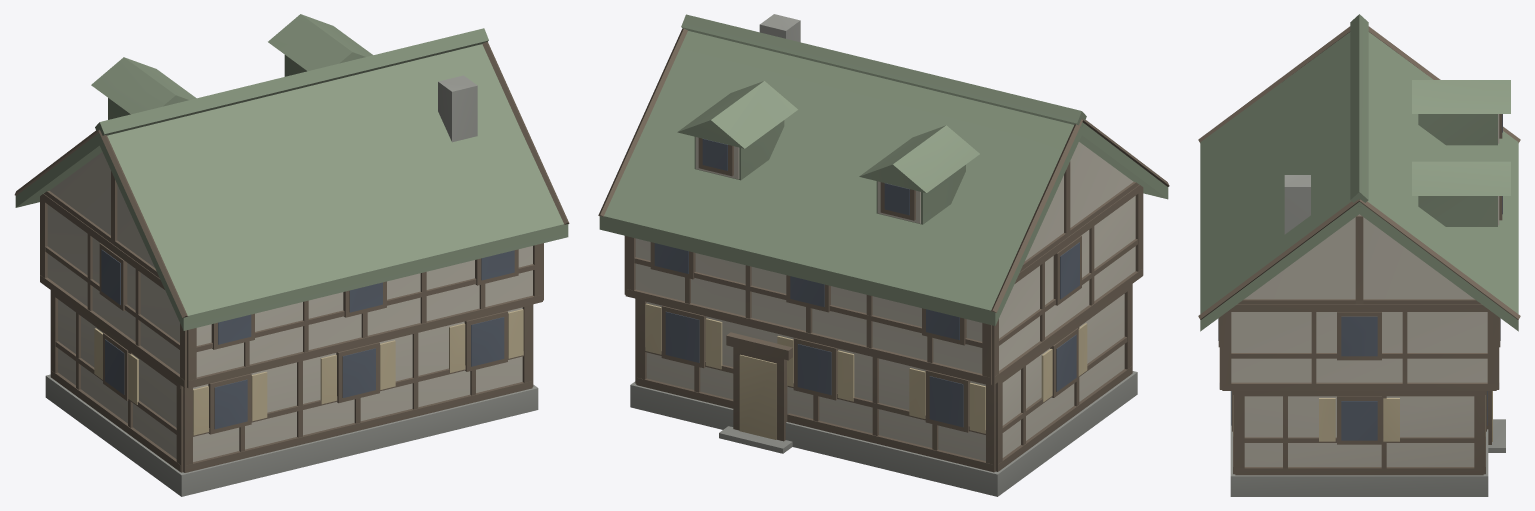
Rendered from hall_green.gltf.
The picture shows the model from 3 angles, left to right: view 1: azimuth 30°, elevation 25°; view 2: azimuth 150°, elevation 25°; view 3: azimuth 270°, elevation 25°; orthographic projection. The views are drawn at different scales.
Parts seen in each view (by area): view 1: Body; view 2: Body; view 3: Body.
Boxes of the visible parts, box(x1,y1,x2,y2) form: Body: box(14, 14, 569, 496); Body: box(598, 14, 1169, 496); Body: box(1198, 14, 1520, 496).
Bounding box in the file's own units: 11.17 × 9.06 × 8.51.
